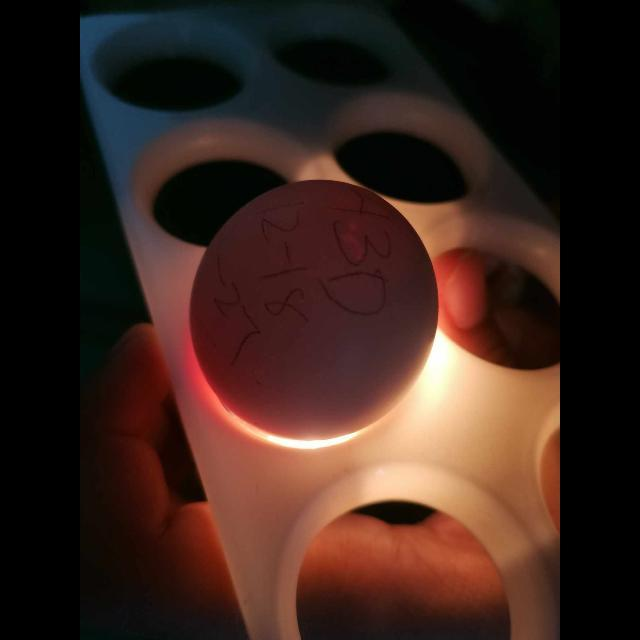Fertile: (183, 178, 443, 428)
